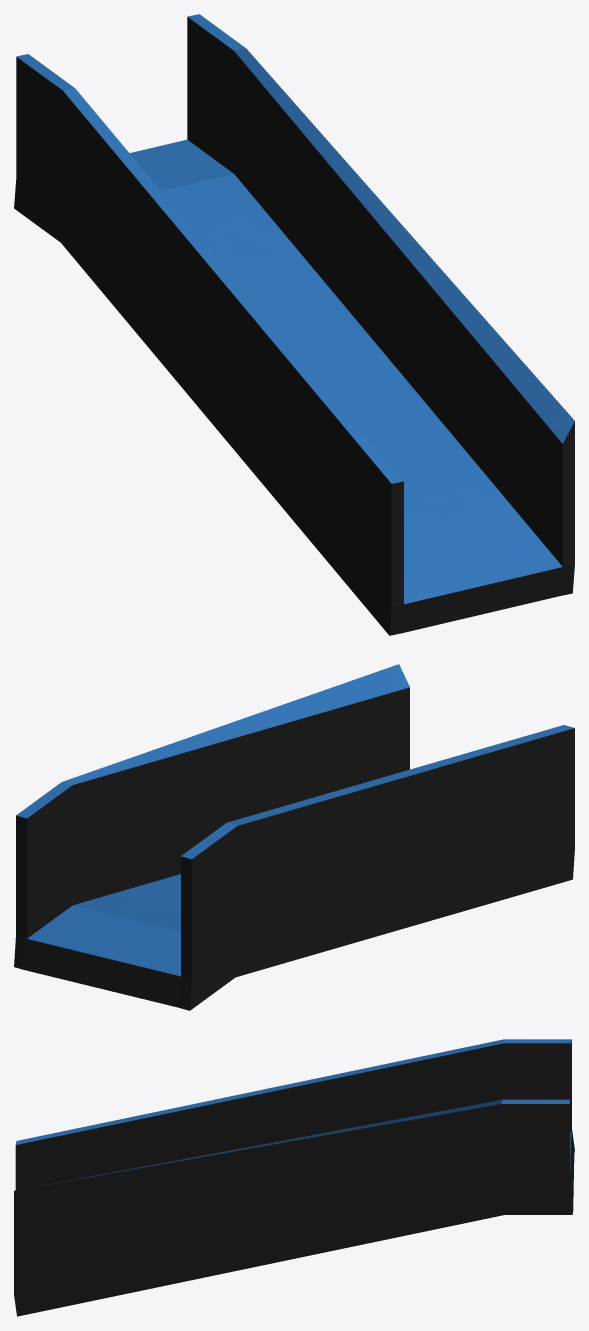
File: tangga.fbx
The picture shows the model from 3 angles, top to bottom: view 1: azimuth 30°, elevation 25°; view 2: azimuth 150°, elevation 25°; view 3: azimuth 270°, elevation 25°; orthographic projection. The views are drawn at different scales.
Visible parts, largest first — view 1: Plane.003; view 2: Plane.003; view 3: Plane.003.
Boxes of the visible parts, <box> form: Plane.003: <box>14,14,574,635</box>; Plane.003: <box>14,664,574,1010</box>; Plane.003: <box>14,1039,574,1316</box>.
Bounding box in the file's own units: 32.32 × 48.58 × 114.
